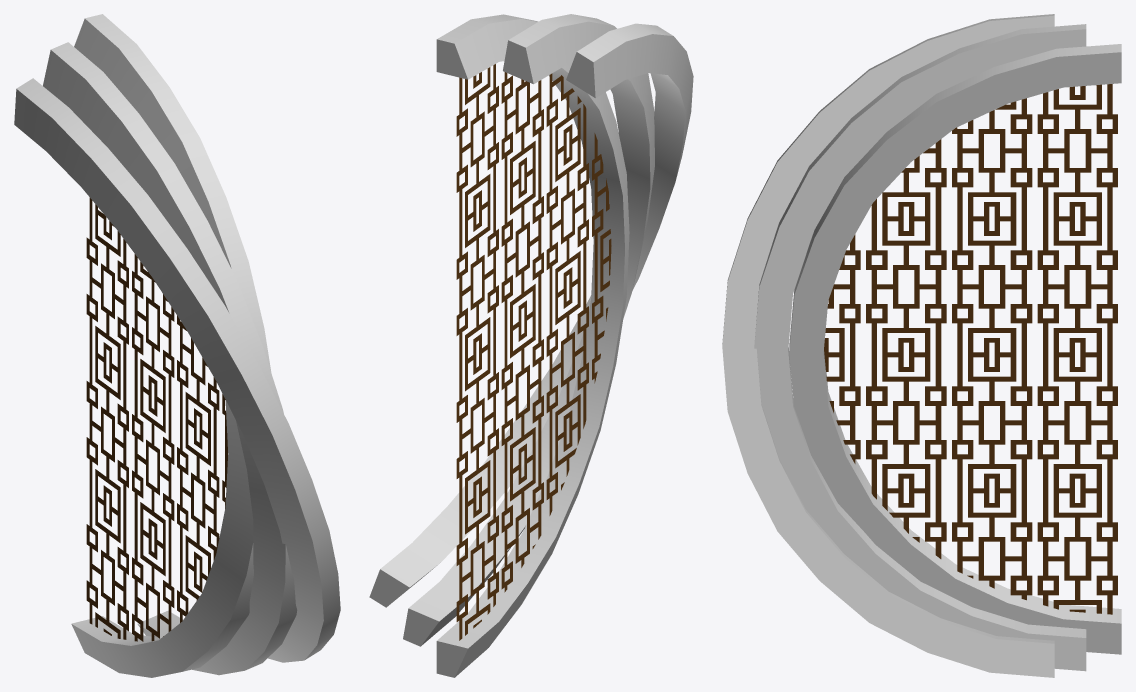
File: Harp.fbx
The picture shows the model from 3 angles, left to right: view 1: azimuth 30°, elevation 25°; view 2: azimuth 150°, elevation 25°; view 3: azimuth 270°, elevation 25°; orthographic projection. The views are drawn at different scales.
Visible parts, largest first — view 1: Harp; view 2: Harp; view 3: Harp.
Part boxes in pixels (box(x1,y1,x2,y2)): Harp: box(14, 14, 340, 677); Harp: box(369, 14, 693, 677); Harp: box(722, 14, 1121, 677).
Size of the model in its own units: 23.44 by 62.81 by 37.73.
